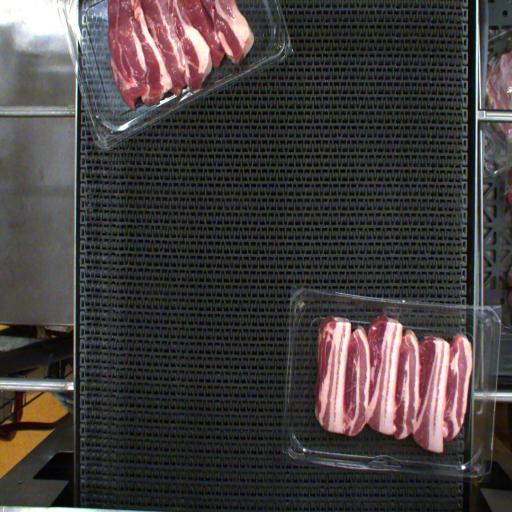packaging-error: (383, 311, 400, 325)
